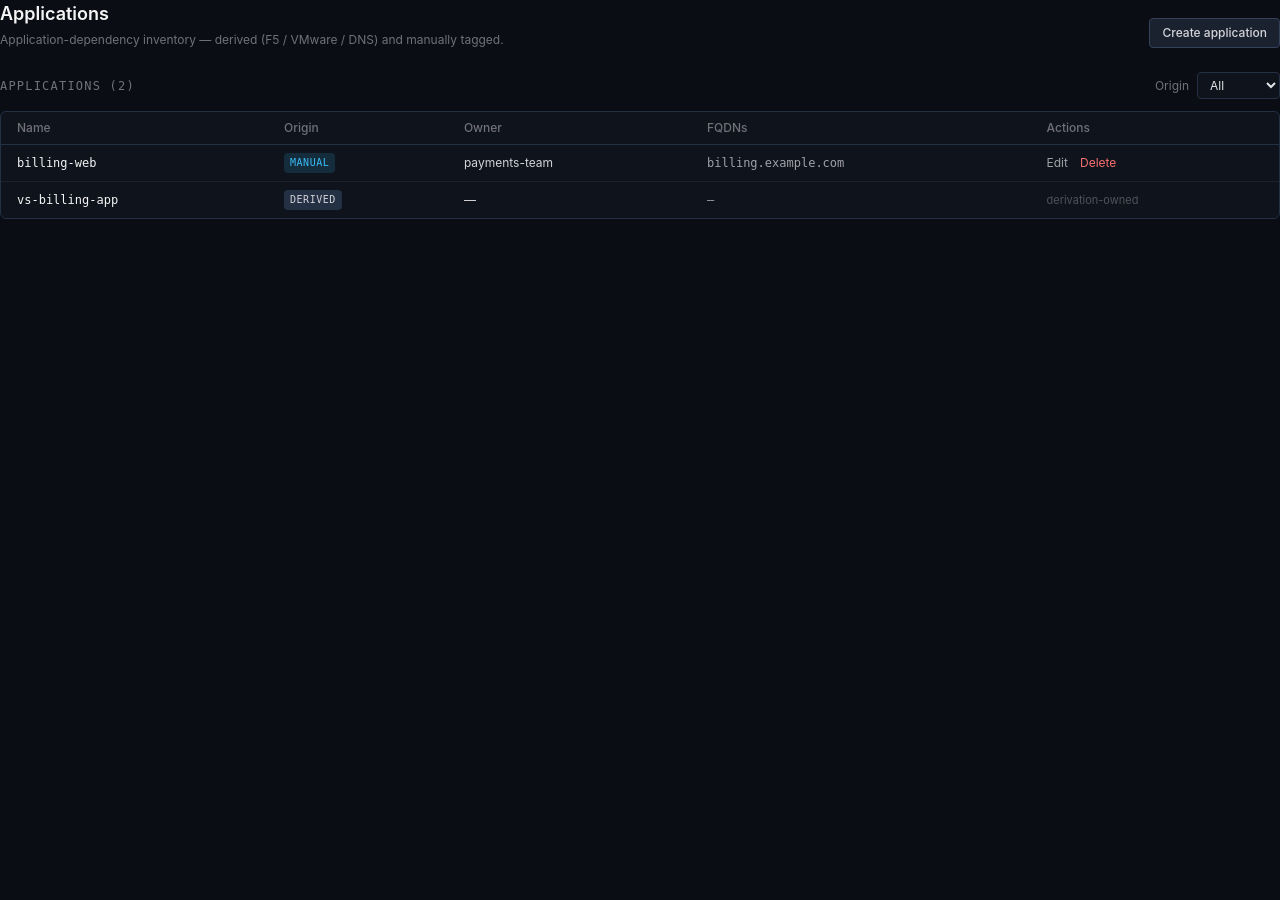
it: application_edit_uses_optimistic_concurrency_if_match › (c) a name-collision 409 shows the plain detail, not the reload UX
The width and height of the screenshot is (1280, 900).
Click the button "Edit" at (1057, 163), box [1047, 155, 1068, 171]
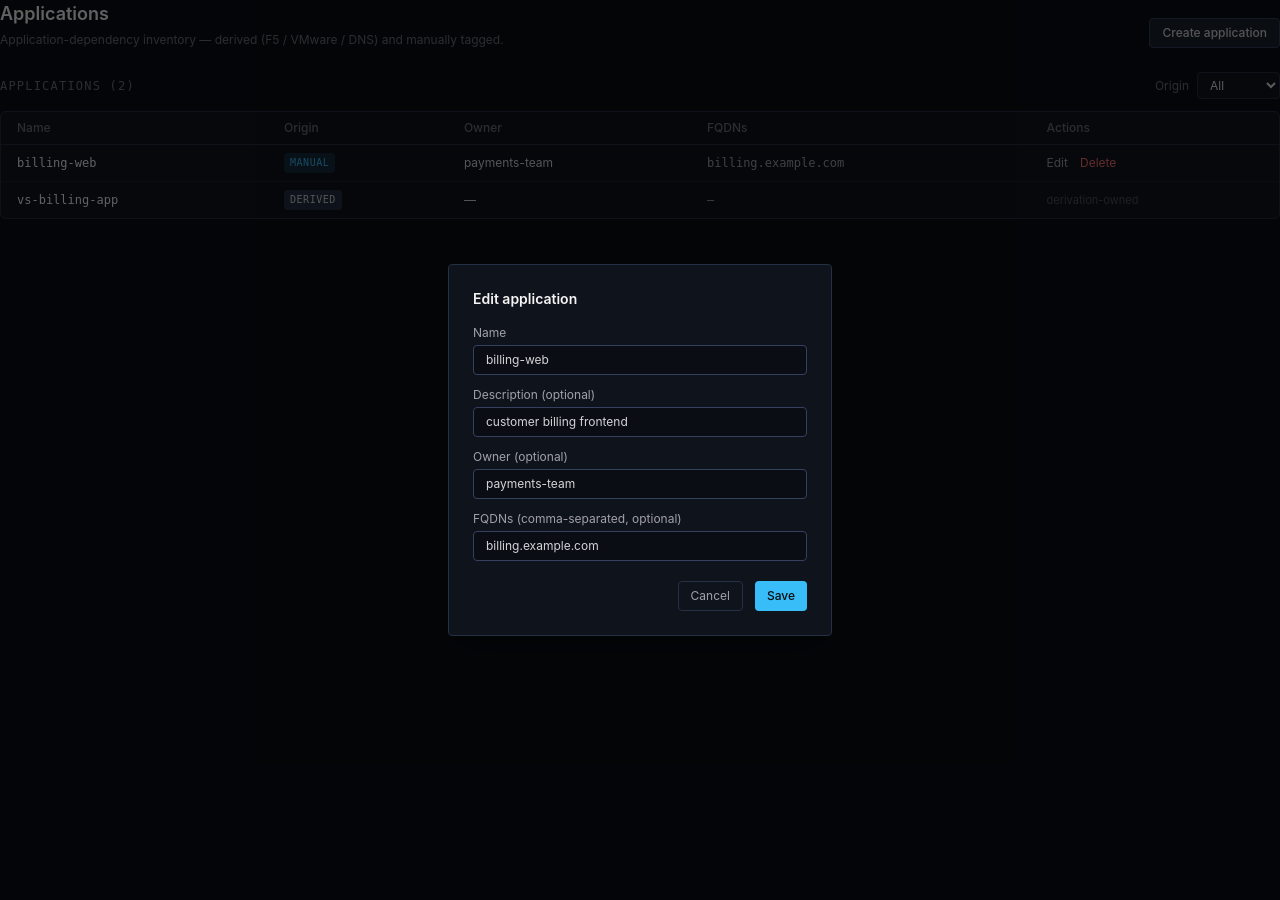
Replace the text in the field with test id "application-form-owner" with "new-owner" at (640, 484), box [473, 469, 807, 499]
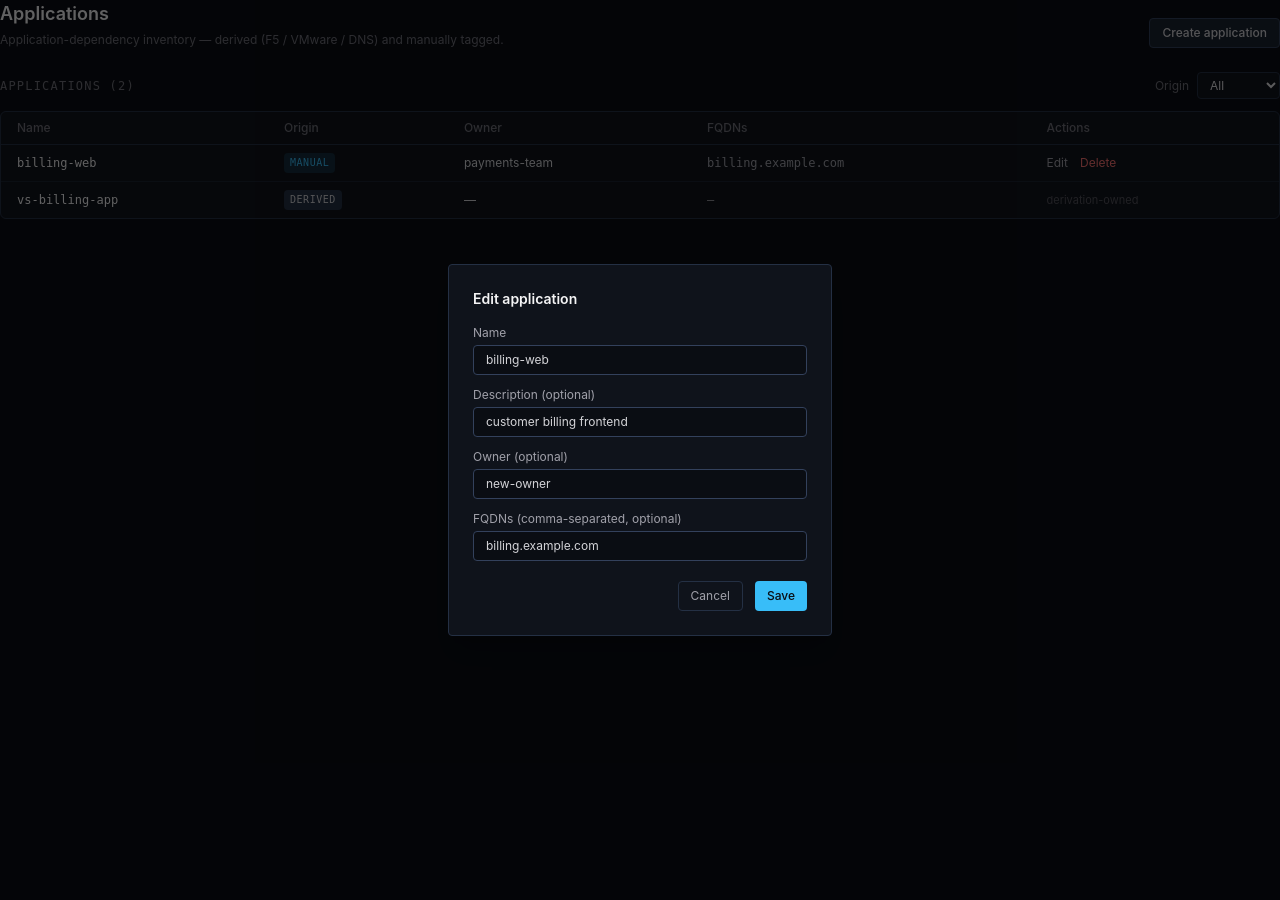
Click the button with test id "application-form-submit" at (781, 596), box [755, 581, 807, 611]
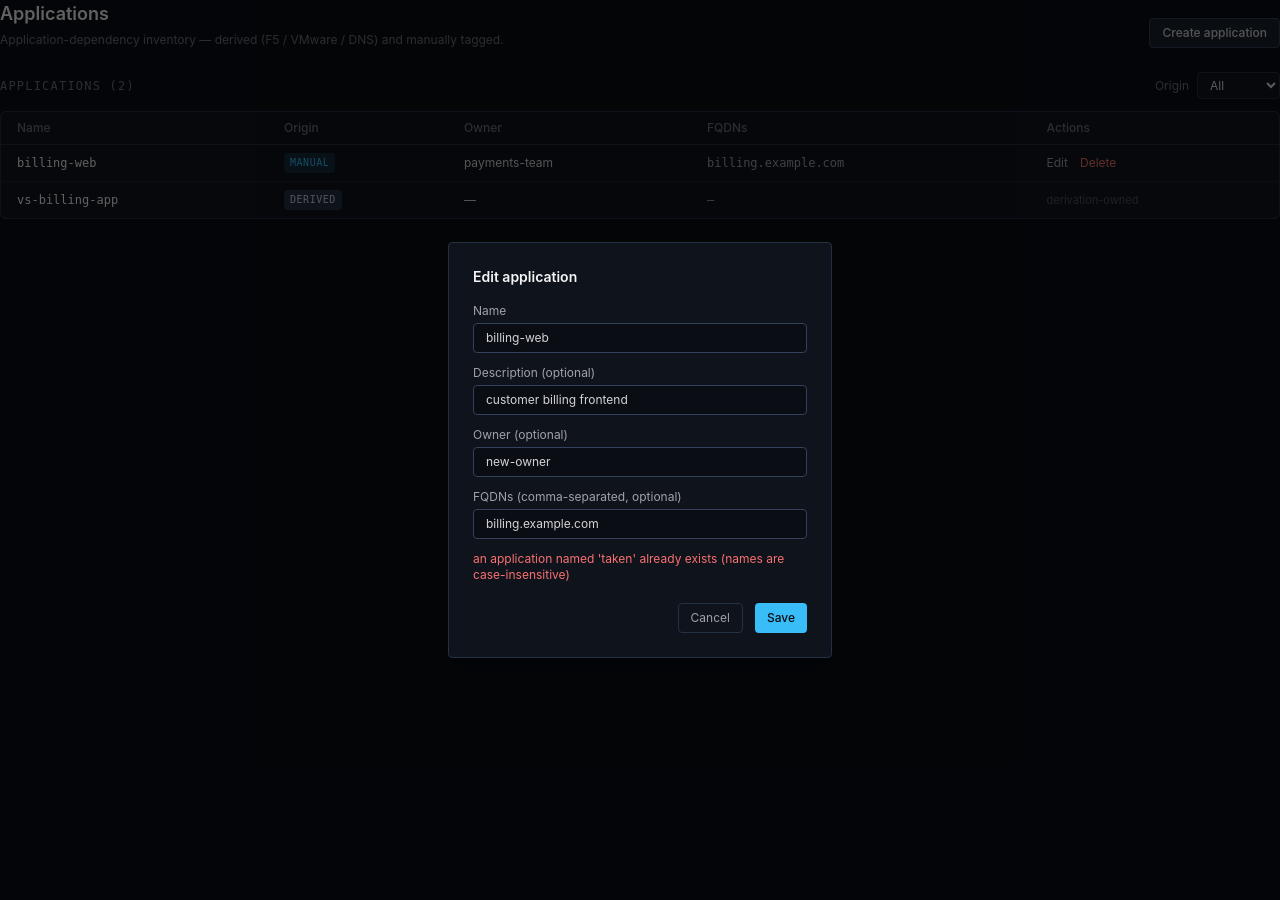
expect the text "already exists" is shown: met, box [473, 551, 784, 582]
